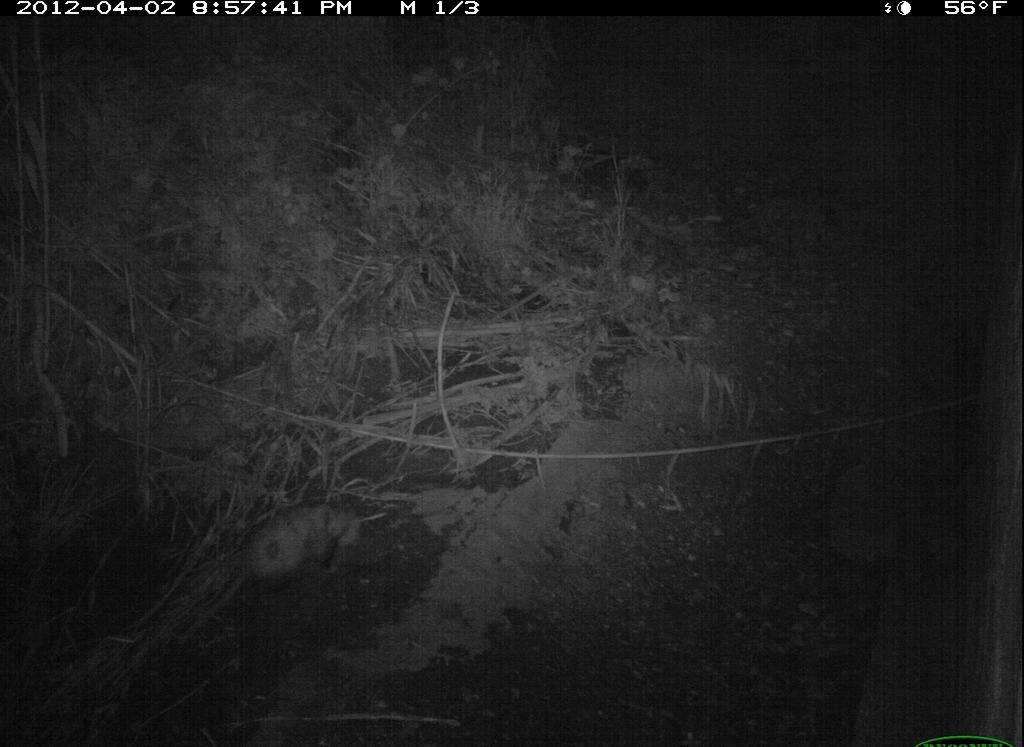opossum: (212, 486, 379, 610)
